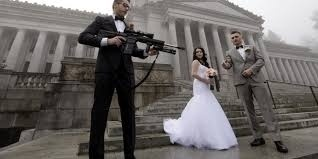pistol: (102, 27, 179, 60)
